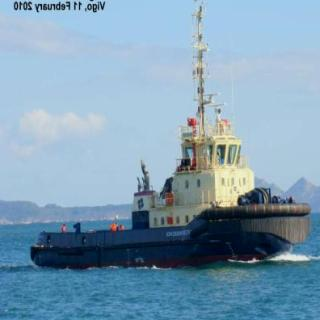Tug Boat: (70, 18, 311, 261)
